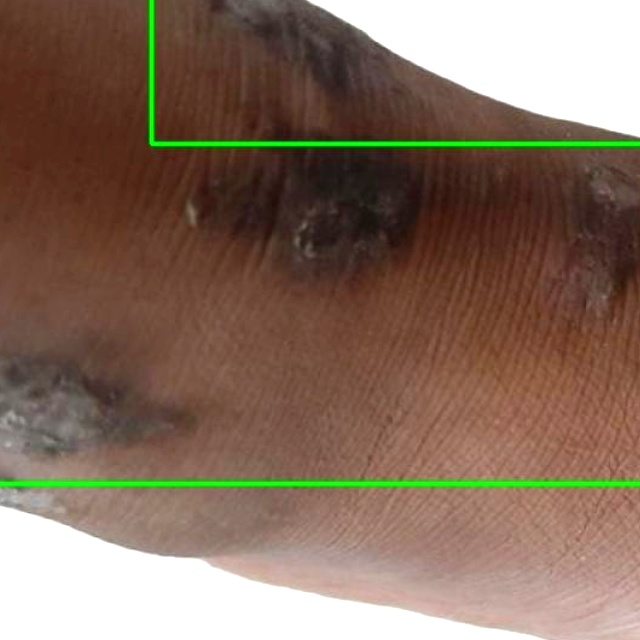Contact Dermatitis: (151, 0, 639, 143)
